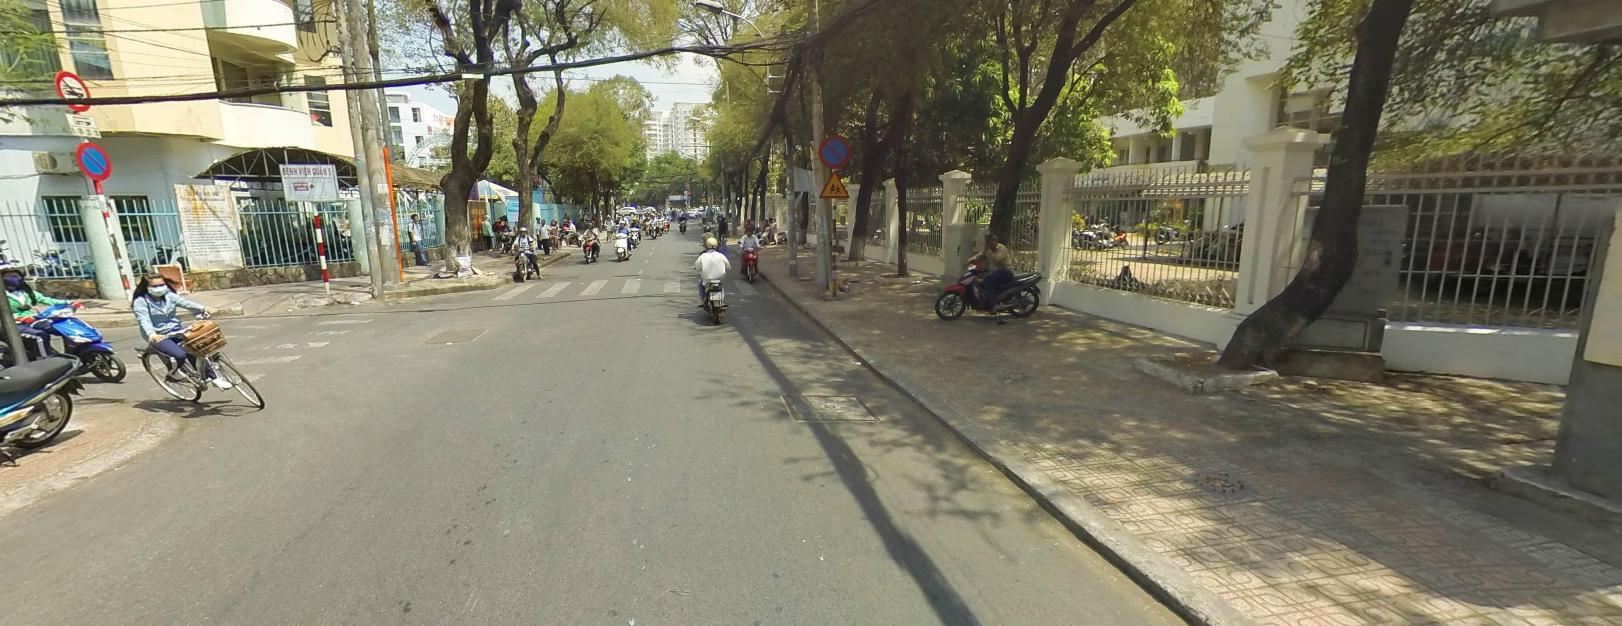Cam con lai: (54, 69, 92, 110)
Cam dung va do: (74, 141, 112, 179), (818, 133, 850, 167)
Cam nguoc chieu: (686, 189, 690, 193)
Hieu lenh: (686, 193, 690, 198)
Nguy hiem: (818, 169, 850, 196)
